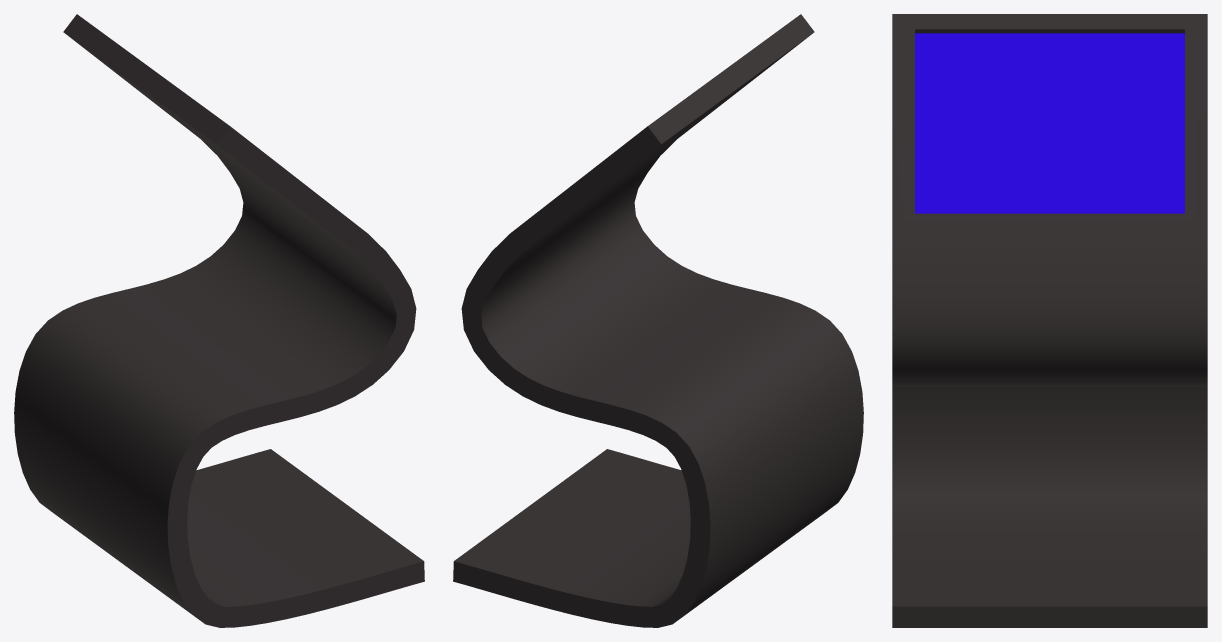
Rendered from save_monitor.fbx.
3 views of the same model, side by side, from view 1: azimuth 30°, elevation 25°; view 2: azimuth 150°, elevation 25°; view 3: azimuth 270°, elevation 25° (orthographic). The views are drawn at different scales.
Visible parts, largest first — view 1: BezierCurve; view 2: BezierCurve; view 3: BezierCurve.
Part boxes in pixels (x1,y1,x2,y2): BezierCurve: [14, 14, 424, 627]; BezierCurve: [453, 14, 863, 627]; BezierCurve: [892, 14, 1207, 627].
Bounding box in the file's own units: 131 × 246 × 135.
